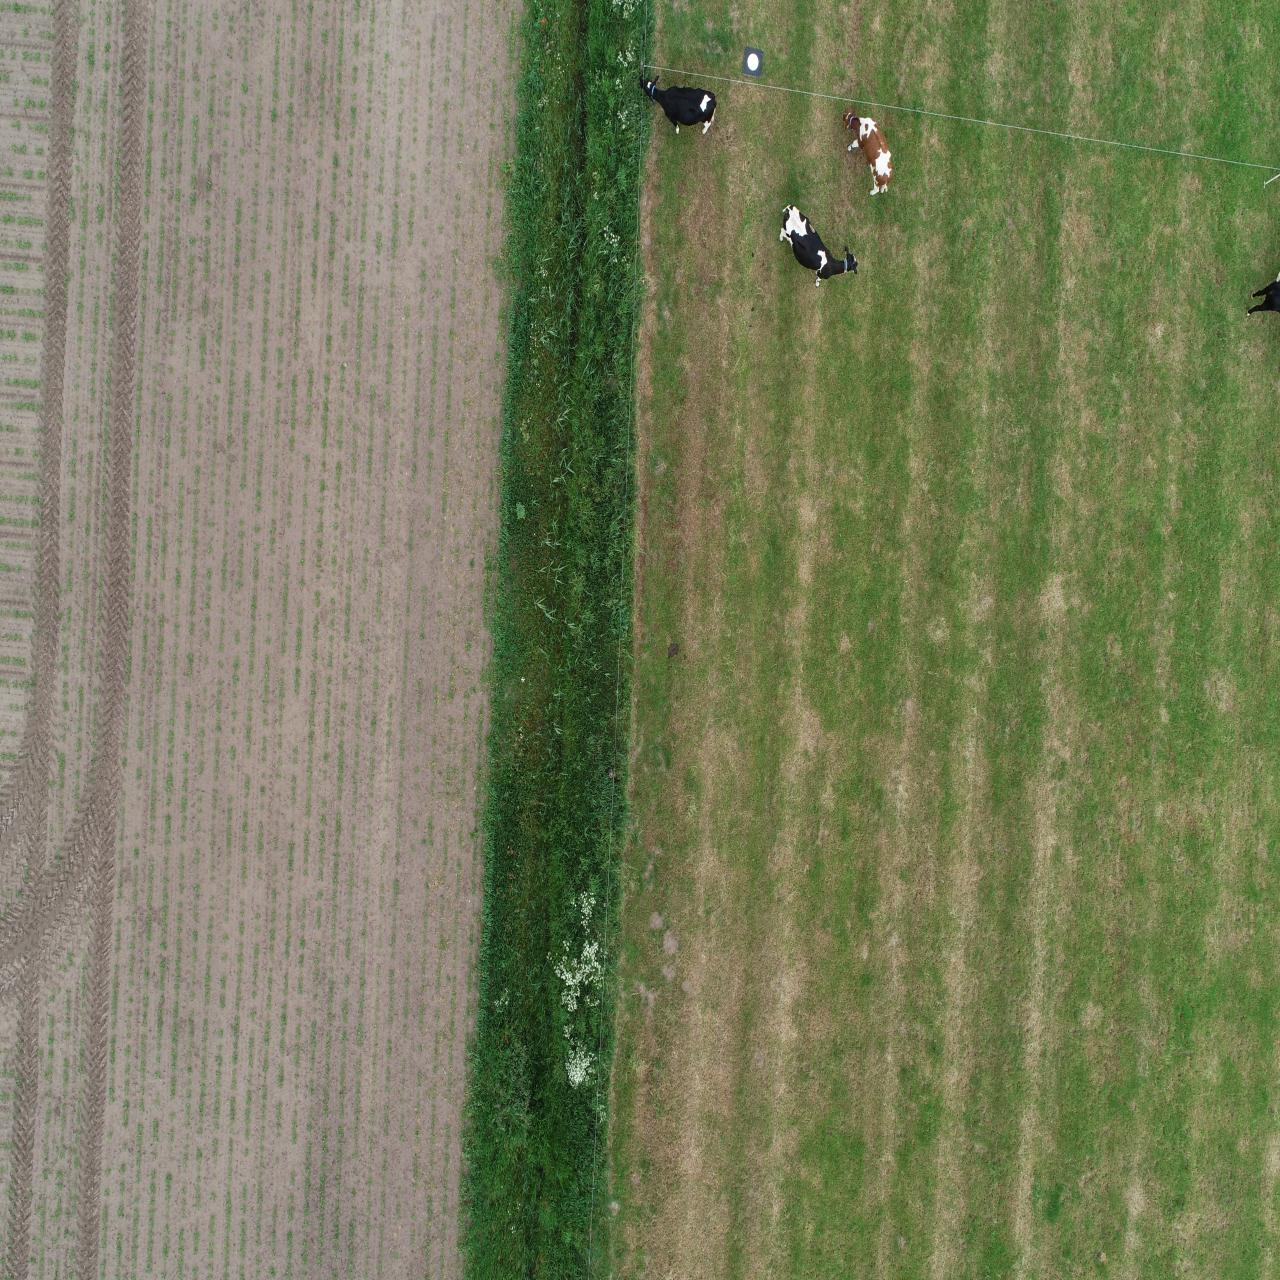cow: (778, 202, 859, 287), (638, 73, 719, 141), (839, 105, 897, 200)
